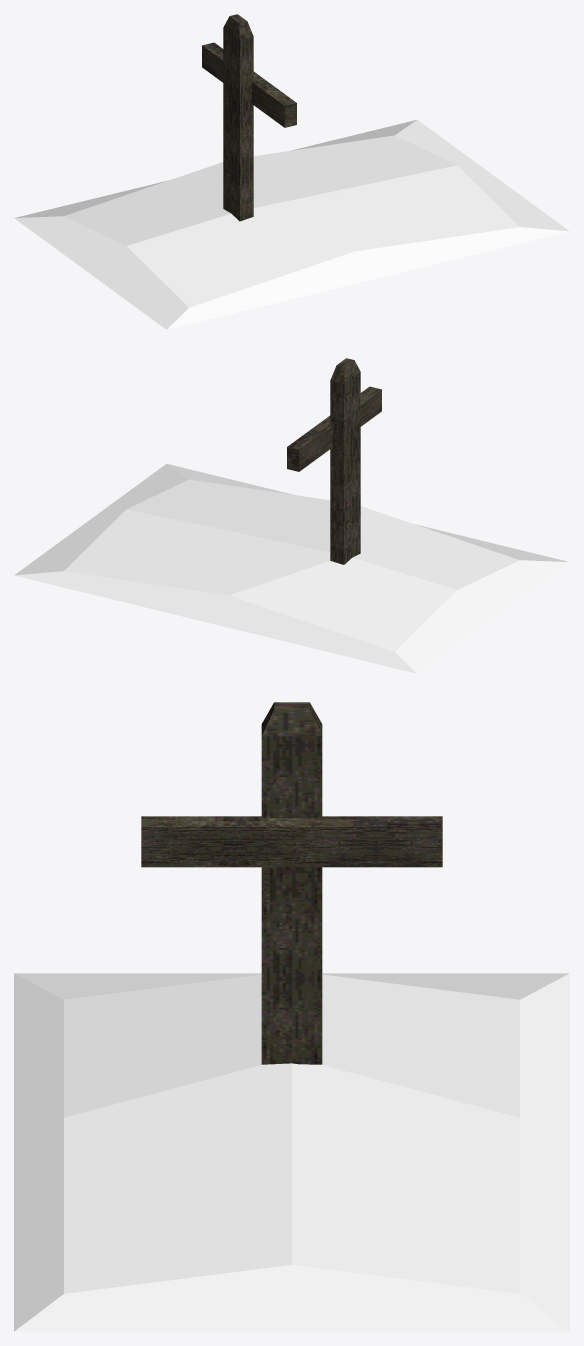
The model's file is Cross Grave.glb.
3 views of the same model, one above another, from view 1: azimuth 30°, elevation 25°; view 2: azimuth 150°, elevation 25°; view 3: azimuth 270°, elevation 25° (orthographic). The views are drawn at different scales.
Parts seen in each view (by area): view 1: Cube; view 2: Cube; view 3: Cube.
Part boxes in pixels (x1=…): Cube: x1=14, y1=14, x2=569, y2=329; Cube: x1=14, y1=358, x2=569, y2=673; Cube: x1=14, y1=702, x2=569, y2=1331.
Size of the model in its own units: 3.73 by 1.94 by 2.45.
1 material, 1 textured.
